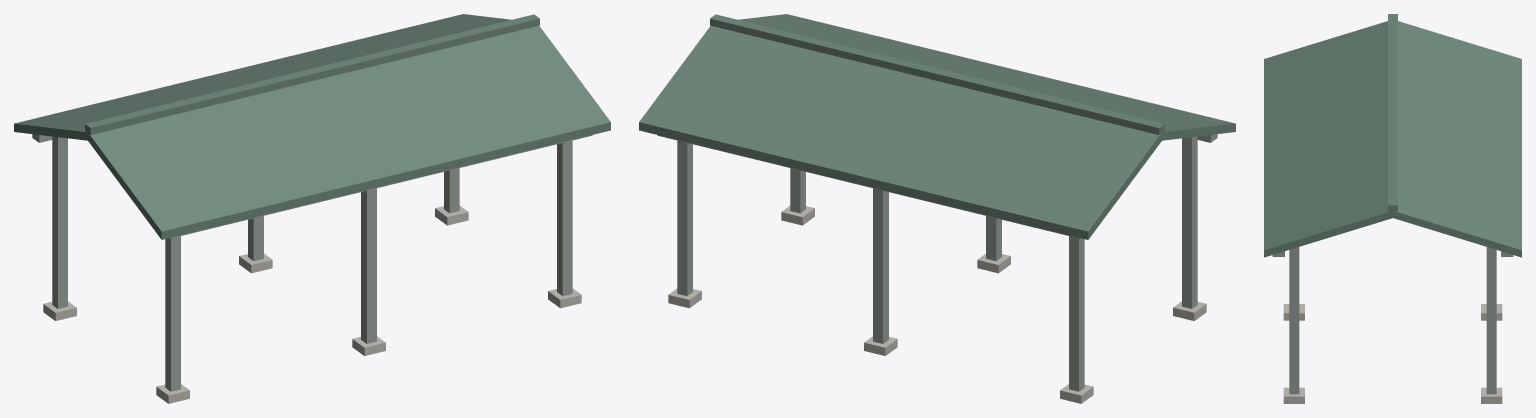
3 views of the same model, side by side, from view 1: azimuth 30°, elevation 25°; view 2: azimuth 150°, elevation 25°; view 3: azimuth 270°, elevation 25° (orthographic). The views are drawn at different scales.
Visible parts, largest first — view 1: osm533336910__roof, osm533336910__steel, osm533336910__base; view 2: osm533336910__roof, osm533336910__steel, osm533336910__base; view 3: osm533336910__roof, osm533336910__steel, osm533336910__base.
Boxes of the visible parts, x1,y1,x2,y2 form: osm533336910__roof: (14,14,610,239); osm533336910__steel: (32,134,592,391); osm533336910__base: (43,206,581,403); osm533336910__roof: (639,14,1235,239); osm533336910__steel: (657,134,1217,391); osm533336910__base: (668,206,1206,403); osm533336910__roof: (1264,14,1521,257); osm533336910__steel: (1272,247,1513,394); osm533336910__base: (1283,304,1502,403).
Size of the model in its own units: 6.74 by 3.39 by 3.84.
